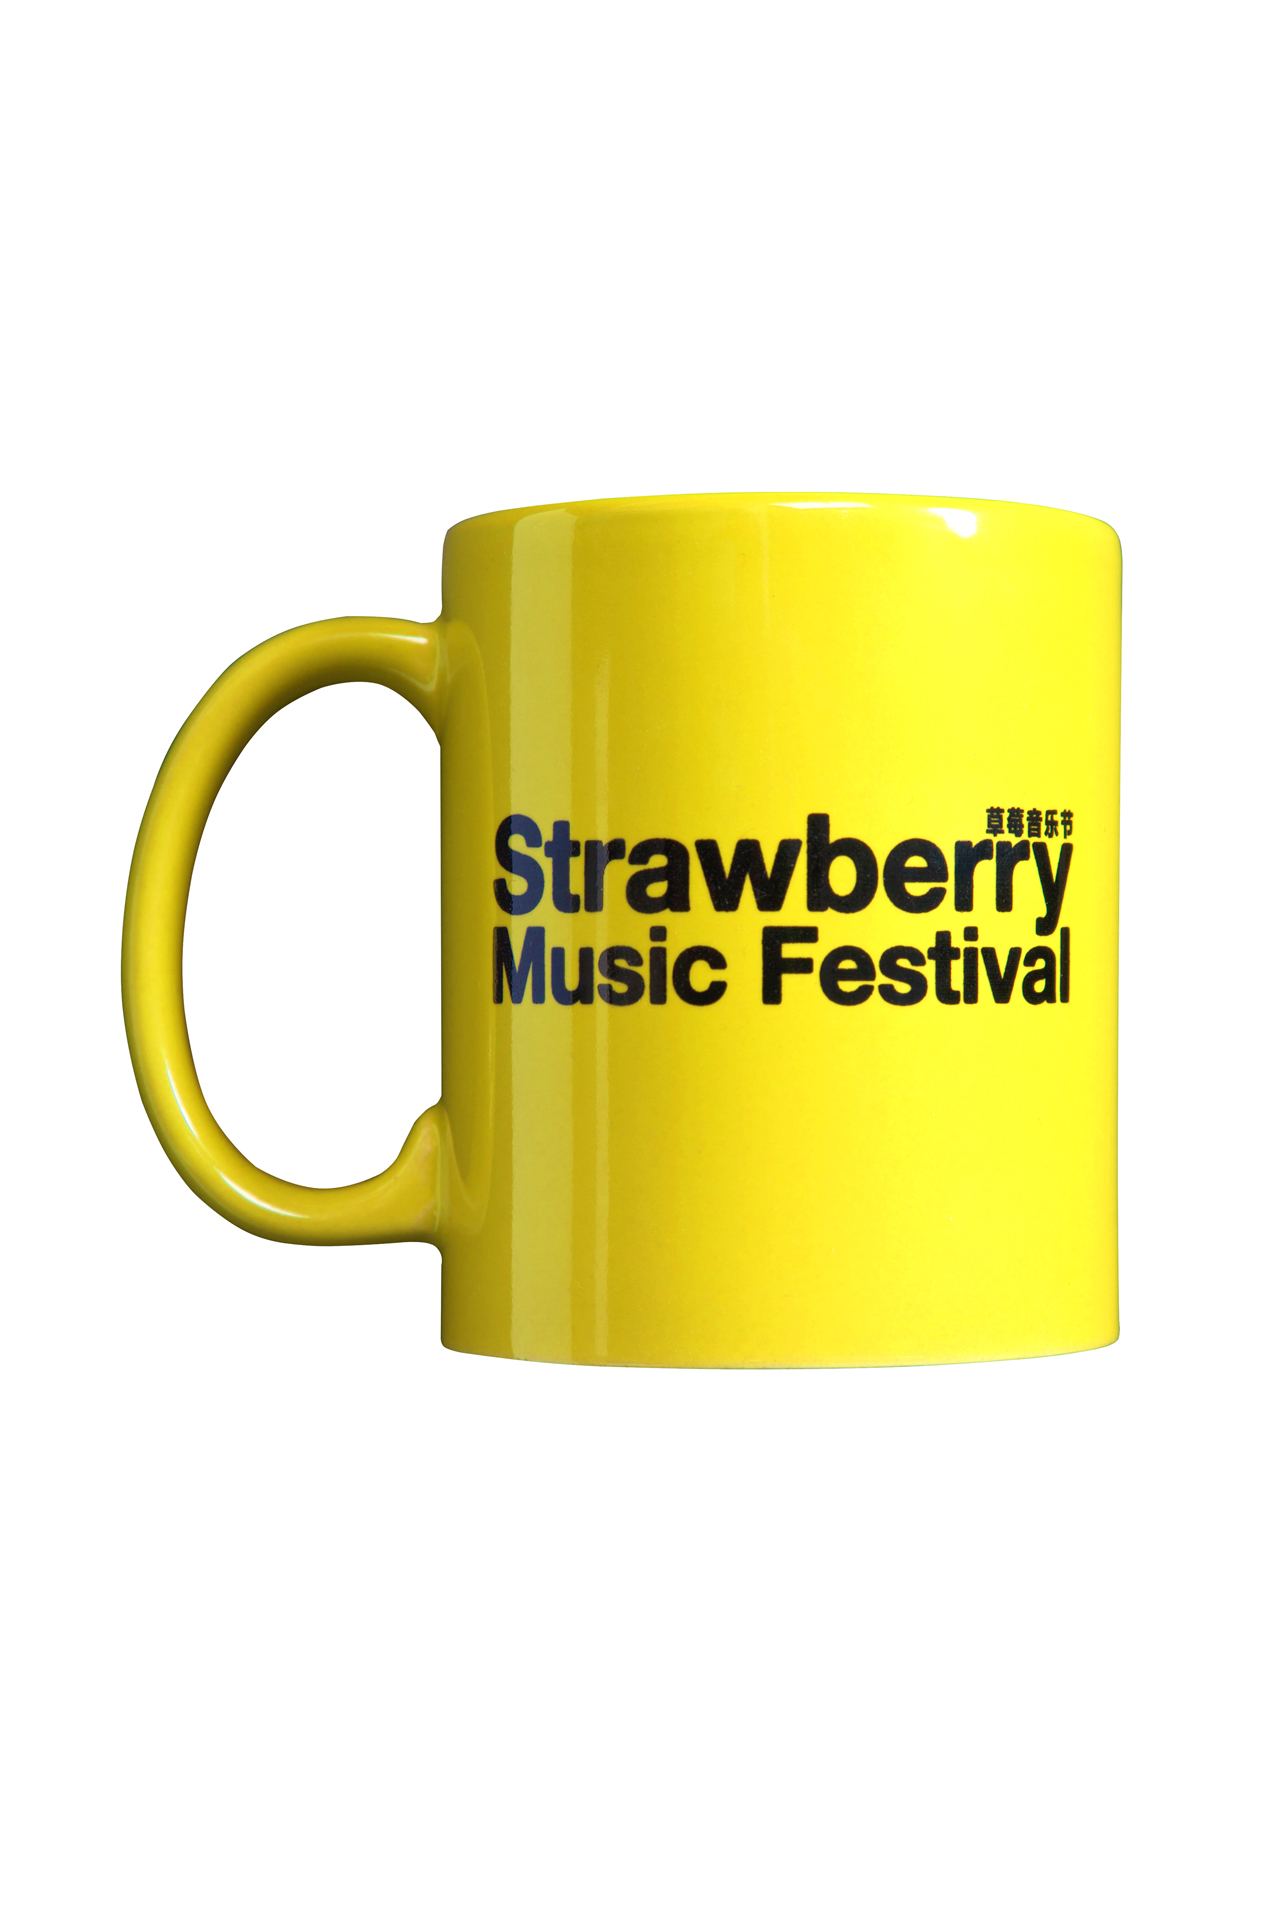cup: (114, 479, 1135, 1375)
